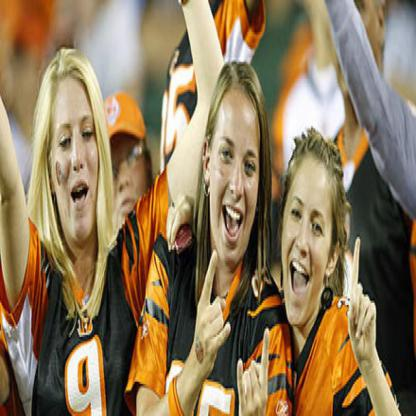face: (282, 152, 330, 328), (210, 100, 258, 258), (51, 91, 100, 240), (110, 119, 145, 229)
